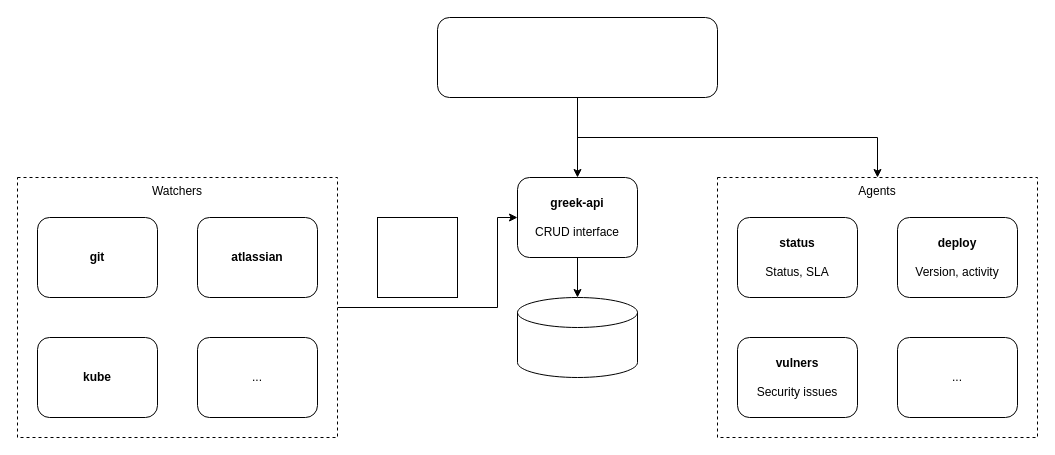
Image size: 1055x455. Some labels were removed from this diagram. The centre of each missing label's shape, as x and y in pixels:
"Database" belongs at (x=577, y=337).
"greek-ui User Interface" belongs at (x=577, y=57).
"service spec ... ... ..." belongs at (x=417, y=257).
